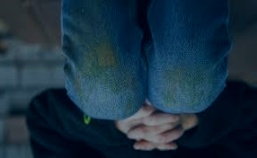earth: (164, 72, 200, 102), (85, 48, 113, 70)
